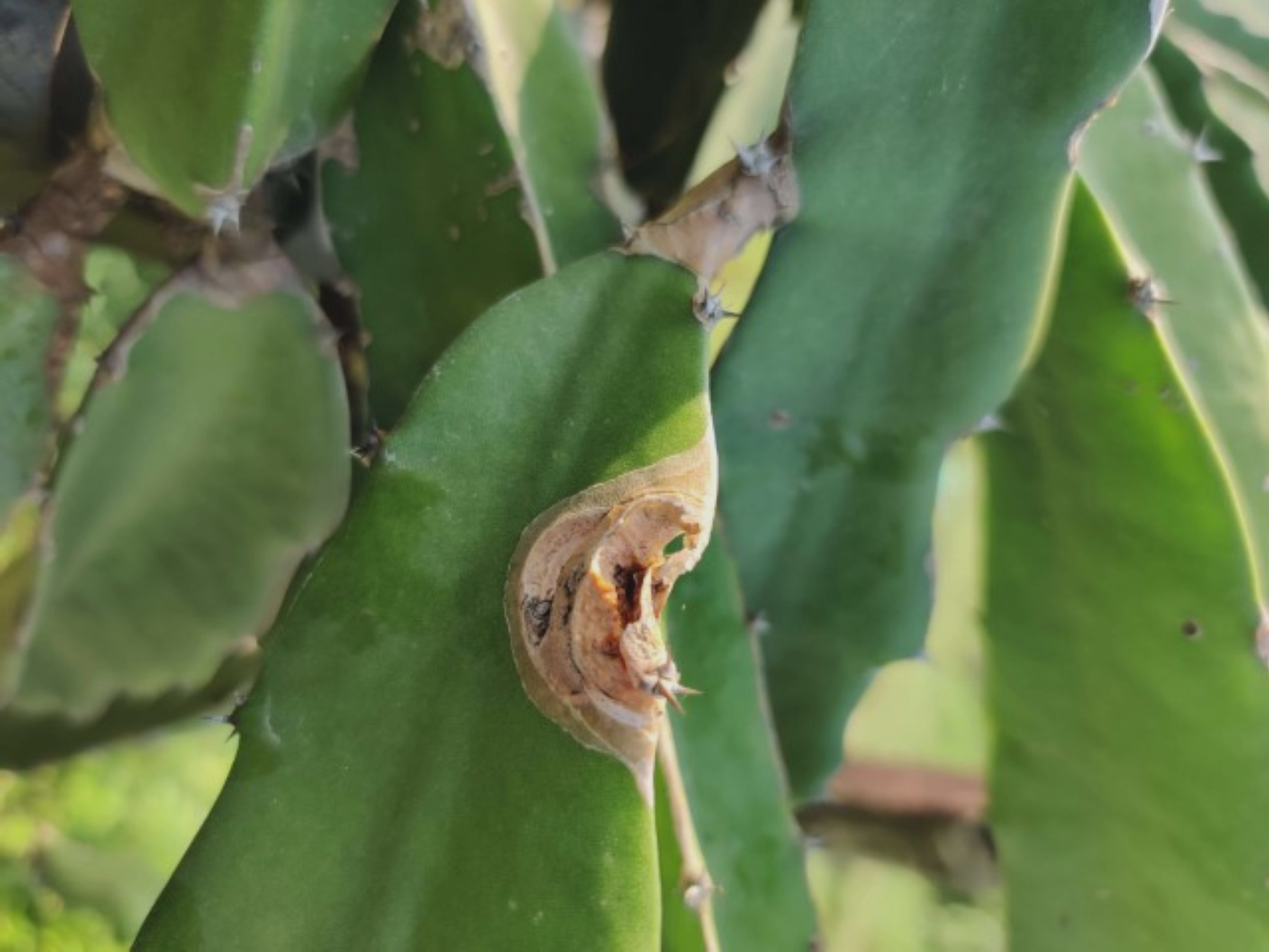stemcanker: (406, 336, 814, 825)
